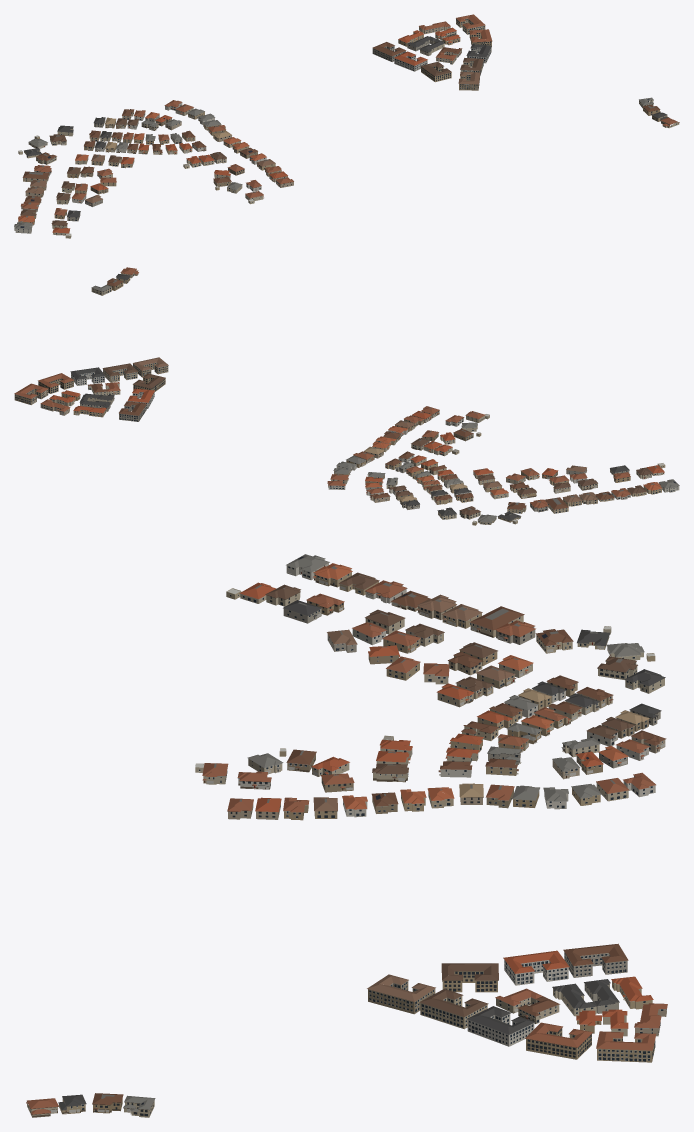
The picture shows the model from 3 angles, top to bottom: view 1: azimuth 30°, elevation 25°; view 2: azimuth 150°, elevation 25°; view 3: azimuth 270°, elevation 25°; orthographic projection. The views are drawn at different scales.
Parts seen in each view (by area): view 1: buildings_r5_c3_lod0; view 2: buildings_r5_c3_lod0; view 3: buildings_r5_c3_lod0.
Boxes of the visible parts, left/top/right/bottom form: buildings_r5_c3_lod0: left=14, top=14, right=679, bottom=238; buildings_r5_c3_lod0: left=14, top=267, right=679, bottom=525; buildings_r5_c3_lod0: left=26, top=554, right=667, bottom=1117.
Bounding box in the file's own units: 985 × 40.18 × 458.
